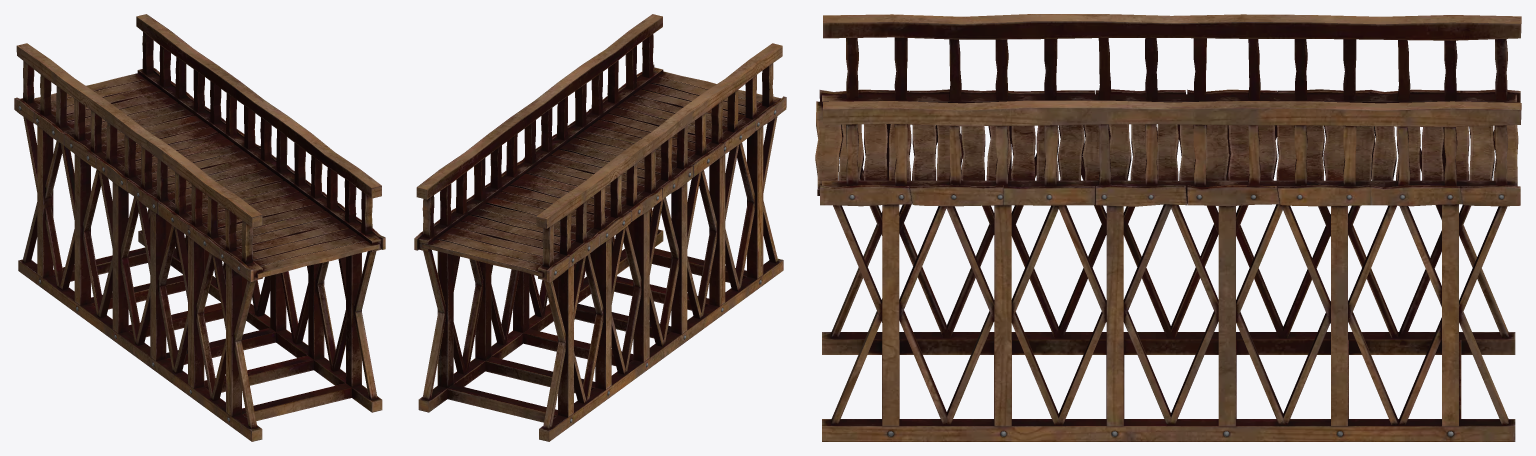
The model's file is medieval_bridge.glb.
The picture shows the model from 3 angles, left to right: view 1: azimuth 30°, elevation 25°; view 2: azimuth 150°, elevation 25°; view 3: azimuth 270°, elevation 25°; orthographic projection. The views are drawn at different scales.
Parts seen in each view (by area): view 1: Cube.003_Material_0; view 2: Cube.003_Material_0; view 3: Cube.003_Material_0.
Boxes of the visible parts, x1=… form: Cube.003_Material_0: x1=14, y1=14, x2=385, y2=441; Cube.003_Material_0: x1=414, y1=14, x2=786, y2=441; Cube.003_Material_0: x1=815, y1=14, x2=1521, y2=441.
Bounding box in the file's own units: 5.11 × 8.05 × 15.42.
2 materials, 2 textured.
